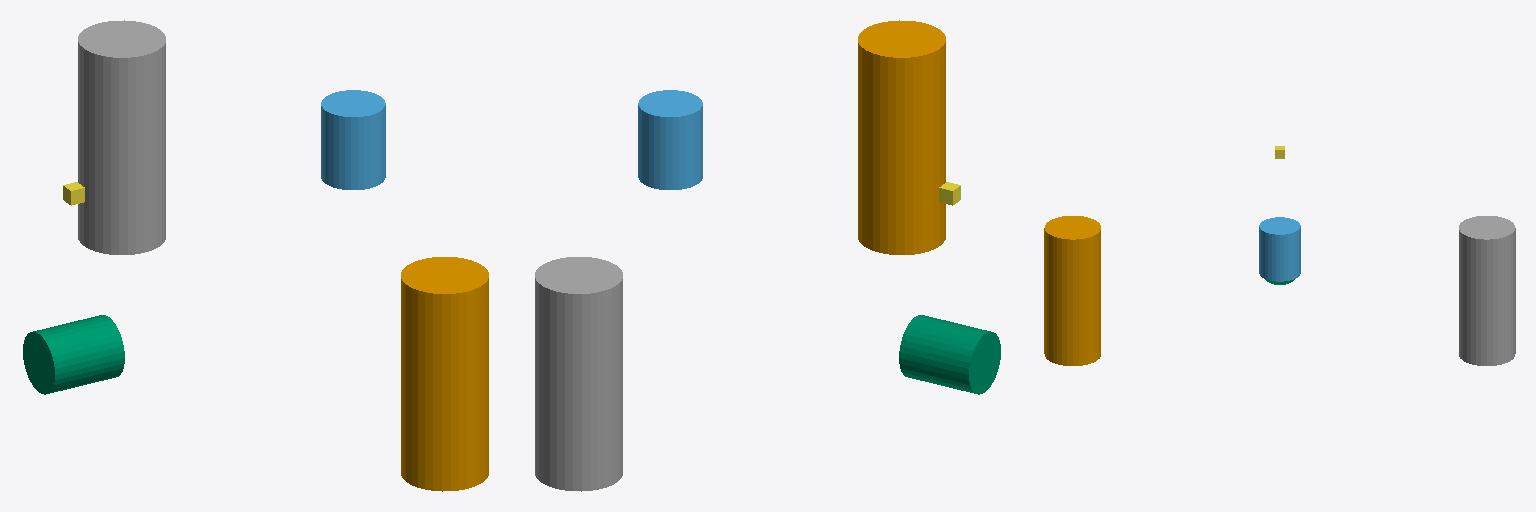
robot.urdf — orca4_ign:
<?xml version='1.0'?>
<robot name="orca4_ign" xmlns:xacro="http://ros.org/wiki/xacro">
    <origin xyz="0 0 0" rpy="0 0 0"/>

    <!-- BlueROV2 thruster reference: http://www.ardusub.com/introduction/features.html -->
    <!-- fluid_density: 1000 -->
    <!-- displaced_mass: 10.05 -->

    <link name="base_link">
      <inertial>
        <origin xyz="0 0 0.011" rpy="0 0 0"/>
        <mass value="10.036"/>
        <inertia ixx="0.09873097998042396" ixy="0.0" ixz="0.0" iyy="0.17756847998042397" iyz="0.0" izz="0.2692441666666667"/>
      </inertial>

      <visual name="base_link_visual">
        <geometry>
          <mesh filename="package://auv_core/meshes/bluerov2.dae" scale = "0.025 0.025 0.025"/>
        </geometry>
      </visual>

      <!-- Collision volume * fluid_density == displaced mass, used by BuoyancyPlugin -->
      <collision name="base_link_collision">
        <origin xyz="0 0 0.06" rpy="0 0 0"/>
        <geometry>
          <box size = "0.457 0.338 0.06506286173008947"/>
        </geometry>
      </collision>

    </link>

    <!-- Hydrodynamics plugin -->
    <gazebo>
    <plugin
        filename="ignition-gazebo-hydrodynamics-system"
        name="ignition::gazebo::systems::Hydrodynamics">
      <link_name>base_link</link_name>
      <water_density>1000</water_density>
      <!-- Added mass: -->
      <xDotU>0</xDotU>
      <yDotV>0</yDotV>
      <zDotW>0</zDotW>
      <kDotP>0</kDotP>
      <mDotQ>0</mDotQ>
      <nDotR>0</nDotR>
      <!-- First order stability derivative: -->
      <xU>0</xU>
      <yV>0</yV>
      <zW>0</zW>
      <kP>0</kP>
      <mQ>0</mQ>
      <nR>0</nR>
      <!-- Second order stability derivative: -->
      <xUabsU>-33.800000000000004</xUabsU>
      <yVabsV>-54.26875</yVabsV>
      <zWabsW>-73.37135</zWabsW>
      <kPabsP>-4.0</kPabsP>
      <mQabsQ>-4.0</mQabsQ>
      <nRabsR>-4.0</nRabsR>
    </plugin>
    </gazebo>

    <link name="thruster1">
      <visual name="thruster_prop_visual">
        <origin xyz="0 0 0" rpy="1.5707963267948966 0 0"/>
        <geometry>
          <mesh filename="package://auv_core/meshes/t200-cw-prop.dae"/>
        </geometry>
      </visual>
      <inertial>
        <mass value="0.002"/>
        <inertia ixx="0.001" ixy="0.0" ixz="0.0" iyy="0.001" iyz="0.0" izz="0.001" />
      </inertial>
    </link>

    <link name="thruster2">
      <origin xyz="0.14 0.092 0" rpy="-1.5707963267948966 1.5707963267948966 -2.356194490192345"/>
      <visual name="thruster_prop_visual">
        <origin xyz="0 0 0" rpy="1.5707963267948966 0 0"/>
        <geometry>
          <mesh filename="package://auv_core/meshes/t200-ccw-prop.dae"/>
        </geometry>
      </visual>
      <inertial>
        <mass value="0.002"/>
        <inertia ixx="0.001" ixy="0.0" ixz="0.0" iyy="0.001" iyz="0.0" izz="0.001" />
      </inertial>
    </link>

    <link name="thruster3">
      <origin xyz="-0.14 -0.092 0" rpy="-1.5707963267948966 1.5707963267948966 0.7853981633974483"/>
      <visual name="thruster_prop_visual">
        <origin xyz="0 0 0" rpy="-1.5707963267948966 0 0"/>
        <geometry>
          <mesh filename="package://auv_core/meshes/t200-ccw-prop.dae"/>
        </geometry>
      </visual>
      <inertial>
        <mass value="0.002"/>
        <inertia ixx="0.001" ixy="0.0" ixz="0.0" iyy="0.001" iyz="0.0" izz="0.001" />
      </inertial>
    </link>

    <link name="thruster4">
      <origin xyz="-0.14 0.092 0" rpy="-1.5707963267948966 1.5707963267948966 2.356194490192345"/>
      <visual name="thruster_prop_visual">
        <origin xyz="0 0 0" rpy="1.5707963267948966 0 0"/>
        <geometry>
          <mesh filename="package://auv_core/meshes/t200-cw-prop.dae"/>
        </geometry>
      </visual>
      <inertial>
        <mass value="0.002"/>
        <inertia ixx="0.001" ixy="0.0" ixz="0.0" iyy="0.001" iyz="0.0" izz="0.001" />
      </inertial>
    </link>

    <link name="thruster5">
      <origin xyz="0 -0.109 0.077" rpy="0 0 0"/>
      <visual name="thruster_prop_visual">
        <origin xyz="0 0 0" rpy="-1.5707963267948966 0 1.5707963267948966"/>
        <geometry>
          <mesh filename="package://auv_core/meshes/t200-ccw-prop.dae"/>
        </geometry>
      </visual>
      <inertial>
        <mass value="0.002"/>
        <inertia ixx="0.001" ixy="0.0" ixz="0.0" iyy="0.001" iyz="0.0" izz="0.001" />
      </inertial>
    </link>

    <link name="thruster6">
      <origin xyz="0 0.109 0.077" rpy="0 0 0"/>
      <visual name="thruster_prop_visual">
        <origin xyz="0 0 0" rpy="1.5707963267948966 0 1.5707963267948966"/>
        <geometry>
          <mesh filename="package://auv_core/meshes/t200-cw-prop.dae"/>
        </geometry>
      </visual>
      <inertial>
        <mass value="0.002"/>
        <inertia ixx="0.001" ixy="0.0" ixz="0.0" iyy="0.001" iyz="0.0" izz="0.001" />
      </inertial>
    </link>


    <joint name="thruster1_joint" type="revolute">
      <parent link = "base_link" />
      <child link = "thruster1" />
      <origin xyz="0.14 -0.092 0" rpy="-1.5707963267948966 1.5707963267948966 -0.7853981633974483"/>
      <axis xyz = "0 0 -1" />
      <limit lower="-1e+12" upper="1e+12" effort="-1" velocity="-1"/>
    </joint>

    <joint name="thruster2_joint" type="revolute">
      <parent link = "base_link" />
      <child link = "thruster2" />
      <origin xyz="0.14 0.092 0" rpy="-1.5707963267948966 1.5707963267948966 -2.356194490192345"/>
      <axis xyz = "0 0 -1" />
      <limit lower="-1e+12" upper="1e+12" effort="-1" velocity="-1"/>
    </joint>

    <joint name="thruster3_joint" type="revolute">
      <parent link = "base_link" />
      <child link = "thruster3" />
      <origin xyz="-0.14 -0.092 0" rpy="-1.5707963267948966 1.5707963267948966 0.7853981633974483"/>
      <axis xyz = "0 0 -1" />
      <limit lower="-1e+12" upper="1e+12" effort="-1" velocity="-1"/>
    </joint>

    <joint name="thruster4_joint" type="revolute">
      <parent link = "base_link" />
      <child link = "thruster4" />
      <origin xyz="-0.14 0.092 0" rpy="-1.5707963267948966 1.5707963267948966 2.356194490192345"/>
      <axis xyz = "0 0 -1" />
      <limit lower="-1e+12" upper="1e+12" effort="-1" velocity="-1"/>
    </joint>

    <joint name="thruster5_joint" type="revolute">
      <parent link = "base_link" />
      <child link = "thruster5" />
      <origin xyz="0 -0.109 0.077" rpy="0 0 0"/>
      <axis xyz = "0 0 -1" />
      <limit lower="-1e+12" upper="1e+12" effort="-1" velocity="-1"/>
    </joint>

    <joint name="thruster6_joint" type="revolute">
      <parent link = "base_link" />
      <child link = "thruster6" />
      <origin xyz="0 0.109 0.077" rpy="0 0 0"/>
      <axis xyz = "0 0 -1" />
      <limit lower="-1e+12" upper="1e+12" effort="-1" velocity="-1"/>
    </joint>

    <gazebo>
    <plugin
        filename="ignition-gazebo-thruster-system"
        name="ignition::gazebo::systems::Thruster">
      <namespace>orca4_ign</namespace>
      <joint_name>thruster1_joint</joint_name>
      <thrust_coefficient>0.02</thrust_coefficient>
      <topic>/model/orca4_ign/joint/thruster1_joint/cmd_vel</topic>
      <fluid_density>1000</fluid_density>
      <propeller_diameter>0.1</propeller_diameter>
      <velocity_control>False</velocity_control>
      <use_angvel_cmd>False</use_angvel_cmd>
    </plugin>
    </gazebo>

    <gazebo>
    <plugin
        filename="ignition-gazebo-thruster-system"
        name="ignition::gazebo::systems::Thruster">
      <namespace>orca4_ign</namespace>
      <joint_name>thruster2_joint</joint_name>
      <thrust_coefficient>0.02</thrust_coefficient>
      <topic>/model/orca4_ign/joint/thruster2_joint/cmd_vel</topic>
      <fluid_density>1000</fluid_density>
      <propeller_diameter>0.1</propeller_diameter>
      <velocity_control>False</velocity_control>
      <use_angvel_cmd>False</use_angvel_cmd>
    </plugin>
    </gazebo>

    <gazebo>
    <plugin
        filename="ignition-gazebo-thruster-system"
        name="ignition::gazebo::systems::Thruster">
      <namespace>orca4_ign</namespace>
      <joint_name>thruster3_joint</joint_name>
      <thrust_coefficient>-0.02</thrust_coefficient>
      <topic>/model/orca4_ign/joint/thruster3_joint/cmd_vel</topic>
      <fluid_density>1000</fluid_density>
      <propeller_diameter>0.1</propeller_diameter>
      <velocity_control>False</velocity_control>
      <use_angvel_cmd>False</use_angvel_cmd>
    </plugin>
    </gazebo>

    <gazebo>
    <plugin
        filename="ignition-gazebo-thruster-system"
        name="ignition::gazebo::systems::Thruster">
      <namespace>orca4_ign</namespace>
      <joint_name>thruster4_joint</joint_name>
      <thrust_coefficient>-0.02</thrust_coefficient>
      <topic>/model/orca4_ign/joint/thruster4_joint/cmd_vel</topic>
      <fluid_density>1000</fluid_density>
      <propeller_diameter>0.1</propeller_diameter>
      <velocity_control>False</velocity_control>
      <use_angvel_cmd>False</use_angvel_cmd>
    </plugin>
    </gazebo>

    <gazebo>
    <plugin
        filename="ignition-gazebo-thruster-system"
        name="ignition::gazebo::systems::Thruster">
      <namespace>orca4_ign</namespace>
      <joint_name>thruster5_joint</joint_name>
      <thrust_coefficient>0.02</thrust_coefficient>
      <topic>/model/orca4_ign/joint/thruster5_joint/cmd_vel</topic>
      <fluid_density>1000</fluid_density>
      <propeller_diameter>0.1</propeller_diameter>
      <velocity_control>False</velocity_control>
      <use_angvel_cmd>False</use_angvel_cmd>
    </plugin>
    </gazebo>

    <gazebo>
    <plugin
        filename="ignition-gazebo-thruster-system"
        name="ignition::gazebo::systems::Thruster">
      <namespace>orca4_ign</namespace>
      <joint_name>thruster6_joint</joint_name>
      <thrust_coefficient>-0.02</thrust_coefficient>
      <topic>/model/orca4_ign/joint/thruster6_joint/cmd_vel</topic>
      <fluid_density>1000</fluid_density>
      <propeller_diameter>0.1</propeller_diameter>
      <velocity_control>False</velocity_control>
      <use_angvel_cmd>False</use_angvel_cmd>
    </plugin>
    </gazebo>

    <!-- Left camera link -->
    <link name="left_camera_link">
      <origin xyz = "0.15 0.2 -0.06749999999999999" rpy= "0 0 0"/>
      <visual name="left_camera_tube">
        <transparency>0.5</transparency>
        <geometry>
          <cylinder length = "0.135" radius = "0.0275" />
        </geometry>
      </visual>
      <inertial>
        <mass value="0.001"/>
        <inertia ixx="0.001" ixy="0.0" ixz="0.0" iyy="0.001" iyz="0.0" izz="0.001" />
      </inertial>
    </link>

    <!-- Attach left_camera_link to base_link -->
    <joint name="left_camera_joint" type="fixed">
      <parent link = "base_link" />
      <child link = "left_camera_link" />
      <origin xyz = "0.15 0.2 -0.0675" rpy= "0 0 1.5707963267948966"/>
    </joint>

    <gazebo reference="left_camera_link">
      <sensor name="left_camera" type="camera">
        <origin xyz = "0.15 0.2 -0.0675" rpy = "0 0 1.5707963267948966" />
          <camera>
             <horizontal_fov>1.4</horizontal_fov>
          <image>
            <width>800</width>
            <height>600</height>
          </image>
          <clip>
            <near>0.2</near>
            <far>4</far>
          </clip>
          <optical_frame_id>left_camera_link</optical_frame_id>
        </camera>
        <always_on>1</always_on>
        <update_rate>5</update_rate>
        <visualize>true</visualize>
        <topic>stereo_left</topic>
      </sensor>
      </gazebo>

    <!-- Right camera link -->
    <link name="right_camera_link">
      <origin xyz = "0.15 -0.2 -0.0675" rpy = "0 0 0" />
      <visual name="right_camera_tube">
        <transparency>0.5</transparency>
        <geometry>
          <cylinder length = "0.135" radius = "0.0275" />
        </geometry>
      </visual>
      <inertial>
        <mass value="0.001"/>
        <inertia ixx="0.001" ixy="0.0" ixz="0.0" iyy="0.001" iyz="0.0" izz="0.001" />
      </inertial>
    </link>

    <!-- Attach right_camera_link to base_link -->
    <joint name="right_camera_joint" type="fixed">
      <parent link = "base_link" />
      <child link = "right_camera_link" />
      <origin xyz = "0.15 -0.2 -0.0675" rpy = "0 0 -1.5707963267948966" />
    </joint>

    <gazebo reference="right_camera_link">
    <sensor name="right_camera" type="camera">
        <origin xyz = "0.15 -0.2 -0.0675" rpy = "0 0 -1.5707963267948966" />
        <camera>
          <horizontal_fov>1.4</horizontal_fov>
          <image>
            <width>800</width>
            <height>600</height>
          </image>
          <clip>
            <near>0.2</near>
            <far>4</far>
          </clip>
          <optical_frame_id>right_camera_link</optical_frame_id>
        </camera>
        <always_on>1</always_on>
        <update_rate>5</update_rate>
        <visualize>true</visualize>
        <topic>stereo_right</topic>
      </sensor>
      </gazebo>

    <!-- Publish the ground-truth pose for rviz -->
    <!-- <plugin
        filename="ignition-gazebo-odometry-publisher-system"
        name="ignition::gazebo::systems::OdometryPublisher">
      <odom_frame>map</odom_frame>
      <robot_base_frame>orca4_ign</robot_base_frame>
      <dimensions>3</dimensions>
    </plugin> -->

    <!-- Forward Camera Link for Gate Detection -->
    <link name="forward_camera_link">
      <origin xyz="0.2 0 0" rpy="0 0 0"/>
      <visual name="forward_camera_visual">
        <transparency>0.5</transparency>
        <geometry>
          <cylinder length="0.05" radius="0.02"/>
        </geometry>
      </visual>
      <inertial>
        <mass value="0.001"/>
        <inertia ixx="0.001" ixy="0.0" ixz="0.0" iyy="0.001" iyz="0.0" izz="0.001"/>
      </inertial>
    </link>

    <!-- Attach forward_camera_link to base_link -->
    <joint name="forward_camera_joint" type="fixed">
      <parent link="base_link"/>
      <child link="forward_camera_link"/>
      <origin xyz="0.2 0 0" rpy="0 0 0"/>
    </joint>

    <gazebo reference="forward_camera_link">
      <sensor name="forward_camera" type="camera">
        <origin xyz="0.2 0 0" rpy="0 0 0"/>
        <camera>
          <horizontal_fov>1.4</horizontal_fov>
          <image>
            <width>800</width>
            <height>600</height>
          </image>
          <clip>
            <near>0.2</near>
            <far>10</far>
          </clip>
          <optical_frame_id>forward_camera_link</optical_frame_id>
        </camera>
        <always_on>1</always_on>
        <update_rate>30</update_rate>
        <visualize>true</visualize>
        <topic>camera_forward</topic>
      </sensor>
    </gazebo>

    <!-- Downward Camera Link (for optical flow) -->
    <link name="downward_camera_link">
      <origin xyz="0 0 -0.1" rpy="0 1.5707963267948966 0"/>
      <visual name="downward_camera_visual">
        <transparency>0.5</transparency>
        <geometry>
          <cylinder length="0.05" radius="0.02"/>
        </geometry>
      </visual>
      <inertial>
        <mass value="0.001"/>
        <inertia ixx="0.001" ixy="0.0" ixz="0.0" iyy="0.001" iyz="0.0" izz="0.001"/>
      </inertial>
    </link>

    <!-- Attach downward_camera_link to base_link -->
    <joint name="downward_camera_joint" type="fixed">
      <parent link="base_link"/>
      <child link="downward_camera_link"/>
      <origin xyz="0 0 -0.1" rpy="0 1.5707963267948966 0"/>
    </joint>

    <gazebo reference="downward_camera_link">
      <sensor name="downward_camera" type="camera">
        <origin xyz="0 0 -0.1" rpy="0 1.5707963267948966 0"/>
        <camera>
          <horizontal_fov>1.4</horizontal_fov>
          <image>
            <width>800</width>
            <height>600</height>
          </image>
          <clip>
            <near>0.1</near>
            <far>5</far>
          </clip>
          <optical_frame_id>downward_camera_link</optical_frame_id>
        </camera>
        <always_on>1</always_on>
        <update_rate>30</update_rate>
        <visualize>true</visualize>
        <topic>camera_down</topic>
      </sensor>
    </gazebo>

    <gazebo>
    <plugin
    filename="ignition-gazebo-odometry-publisher-system"
    name="ignition::gazebo::systems::OdometryPublisher">
    <link_name>base_link</link_name>  <!-- Use your main body link -->
    <odom_publish_topic>/odom</odom_publish_topic> <!-- Optional -->
    <frame_id>odom</frame_id>
    <child_frame_id>base_link</child_frame_id>
    <publish_tf>true</publish_tf>
    <use_world_coordinates>true</use_world_coordinates>
    <covariance> <!-- Optional -->
      0.01 0 0 0 0 0
      0 0.01 0 0 0 0
      0 0 0.01 0 0 0
      0 0 0 0.01 0 0
      0 0 0 0 0.01 0
      0 0 0 0 0 0.01
    </covariance>
  </plugin>
  </gazebo>

    <link name="imu_link">
    <visual>
      <geometry>
        <box size="0.01 0.01 0.01"/>
      </geometry>
    </visual>

    <collision>
      <geometry>
        <box size="0.01 0.01 0.01"/>
      </geometry>
    </collision>

    <inertial>
      <origin xyz="0 0 0" rpy="0 0 0"/>
      <mass value="0.001"/>
      <inertia ixx="0.000001" ixy="0" ixz="0" iyy="0.000001" iyz="0" izz="0.000001"/>
    </inertial>
  </link>

  <joint name="imu_joint" type="fixed">
    <parent link="base_link"/>
    <child link="imu_link"/>
    <origin xyz="0 0 0.01" rpy="0 0 0"/>
  </joint>

  <gazebo reference="imu_link">
    <sensor name="imu_sensor" type="imu">
      <always_on>true</always_on>
      <update_rate>100</update_rate>
      <visualize>true</visualize>
      <topic>/imu/data</topic>
      <plugin filename="ignition-gazebo-imu-system" name="ignition::gazebo::systems::Imu">
      </plugin>
      <imu>
        <angular_velocity>
          <x>
            <noise type="gaussian">
              <mean>0.0</mean>
              <stddev>2e-4</stddev>
              <bias_mean>0.0000075</bias_mean>
              <bias_stddev>0.0000008</bias_stddev>
            </noise>
          </x>
          <y>
            <noise type="gaussian">
              <mean>0.0</mean>
              <stddev>2e-4</stddev>
              <bias_mean>0.0000075</bias_mean>
              <bias_stddev>0.0000008</bias_stddev>
            </noise>
          </y>
          <z>
            <noise type="gaussian">
              <mean>0.0</mean>
              <stddev>2e-4</stddev>
              <bias_mean>0.0000075</bias_mean>
              <bias_stddev>0.0000008</bias_stddev>
            </noise>
          </z>
        </angular_velocity>
        <linear_acceleration>
          <x>
            <noise type="gaussian">
              <mean>0.0</mean>
              <stddev>1.7e-2</stddev>
              <bias_mean>0.1</bias_mean>
              <bias_stddev>0.001</bias_stddev>
            </noise>
          </x>
          <y>
            <noise type="gaussian">
              <mean>0.0</mean>
              <stddev>1.7e-2</stddev>
              <bias_mean>0.1</bias_mean>
              <bias_stddev>0.001</bias_stddev>
            </noise>
          </y>
          <z>
            <noise type="gaussian">
              <mean>0.0</mean>
              <stddev>1.7e-2</stddev>
              <bias_mean>0.1</bias_mean>
              <bias_stddev>0.001</bias_stddev>
            </noise>
          </z>
        </linear_acceleration>
      </imu>
    </sensor>
  </gazebo>

</robot>

--- Facts derived from the render (not from the file) ---
The picture shows the robot from 3 angles, left to right: view 1: azimuth 30°, elevation 25°; view 2: azimuth 150°, elevation 25°; view 3: azimuth 270°, elevation 25°; orthographic projection.
Robot: orca4_ign — 12 links, 11 joints (6 revolute, 5 fixed); root link base_link; default pose: all joints at 0.
Links seen in each view (by area): view 1: right_camera_link, left_camera_link, forward_camera_link, downward_camera_link; view 2: left_camera_link, right_camera_link, forward_camera_link, downward_camera_link; view 3: left_camera_link, right_camera_link, forward_camera_link.
Boxes of the visible links, x1,y1,x2,y2 form: right_camera_link: (401,257,488,491); left_camera_link: (78,20,165,254); forward_camera_link: (321,90,385,189); downward_camera_link: (23,315,124,394); left_camera_link: (535,257,622,491); right_camera_link: (858,20,945,254); forward_camera_link: (638,90,702,189); downward_camera_link: (899,315,1000,394); left_camera_link: (1459,216,1515,365); right_camera_link: (1044,216,1100,365); forward_camera_link: (1259,217,1300,281).
Size in the robot's own frame: 0.245 by 0.455 by 0.16 metres.
0 mesh visuals loaded from 3 distinct referenced files (none loaded); not drawn: 7 (file found but could not be loaded).